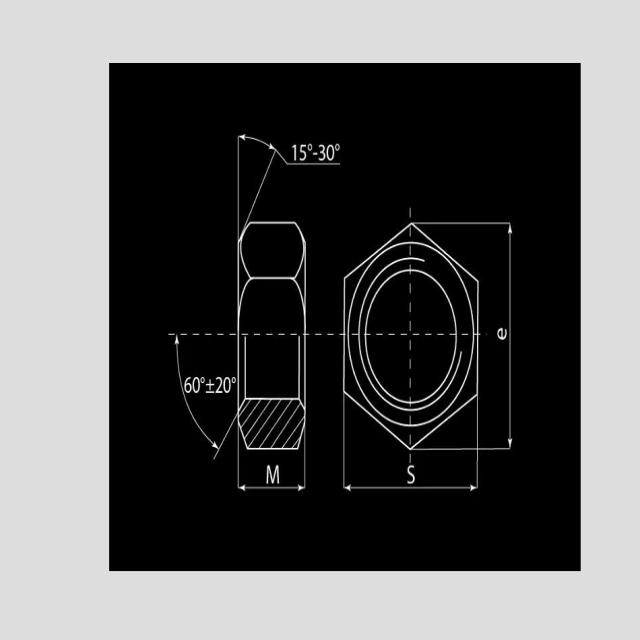marking_line: (234, 130, 342, 220), (168, 331, 236, 459), (479, 221, 511, 454), (341, 450, 481, 490), (238, 452, 308, 492)
numeric: (407, 463, 415, 484), (326, 143, 335, 161), (299, 144, 307, 163), (192, 375, 200, 394), (318, 143, 325, 161), (185, 375, 192, 393), (216, 377, 222, 396), (497, 328, 507, 339), (224, 377, 230, 393), (293, 143, 297, 161)
special_symbol: (206, 378, 215, 395), (308, 143, 313, 152), (335, 143, 340, 151), (231, 375, 236, 383), (200, 376, 205, 384)
